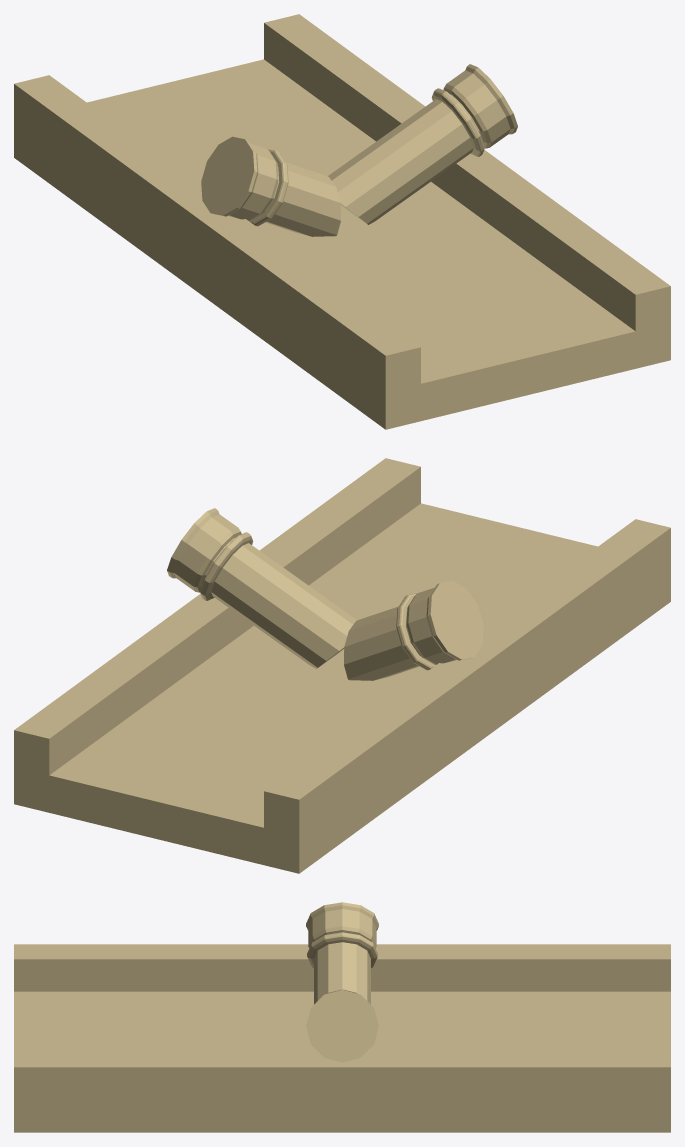
3 views of the same model, one above another, from view 1: azimuth 30°, elevation 25°; view 2: azimuth 150°, elevation 25°; view 3: azimuth 270°, elevation 25° (orthographic). The views are drawn at different scales.
Parts seen in each view (by area): view 1: pl3, brokenpillar1.001, brokenpillar2.001; view 2: pl3, brokenpillar1.001, brokenpillar2.001; view 3: pl3, brokenpillar2.001, brokenpillar1.001.
Part boxes in pixels (x1,y1,x2,y2): pl3: (14, 14, 670, 429); brokenpillar1.001: (328, 64, 517, 224); brokenpillar2.001: (201, 136, 340, 236); pl3: (14, 458, 670, 873); brokenpillar1.001: (167, 508, 356, 668); brokenpillar2.001: (344, 580, 483, 680); pl3: (14, 944, 670, 1132); brokenpillar2.001: (306, 902, 378, 1004); brokenpillar1.001: (306, 989, 378, 1062).
Size of the model in its own units: 8.6 by 4.23 by 18.
